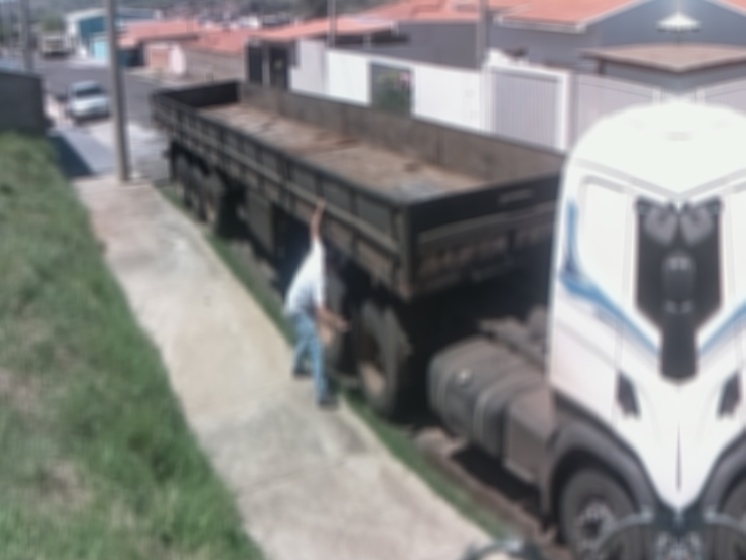person: (282, 198, 353, 412)
